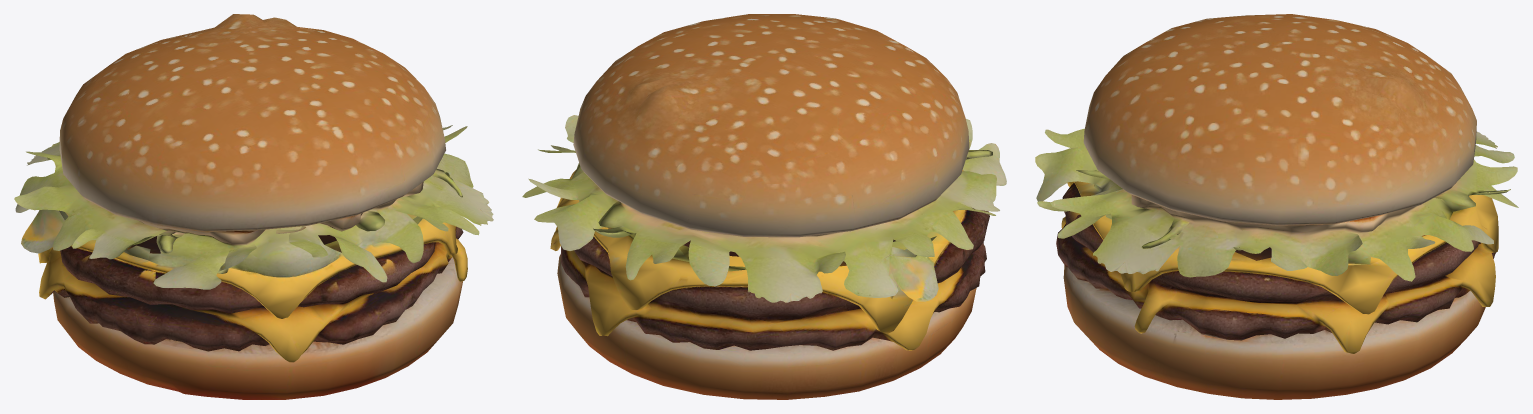
File: Burguer.glb
3 views of the same model, side by side, from view 1: azimuth 30°, elevation 25°; view 2: azimuth 150°, elevation 25°; view 3: azimuth 270°, elevation 25° (orthographic). The views are drawn at different scales.
Parts seen in each view (by area): view 1: Burguer; view 2: Burguer; view 3: Burguer.
Part boxes in pixels (bbox=[...]): Burguer: bbox=[14, 14, 493, 399]; Burguer: bbox=[522, 14, 1006, 399]; Burguer: bbox=[1035, 14, 1518, 399].
Size of the model in its own units: 0.9785 by 0.6074 by 0.998.
Materials: 1 (1 with a texture image).
